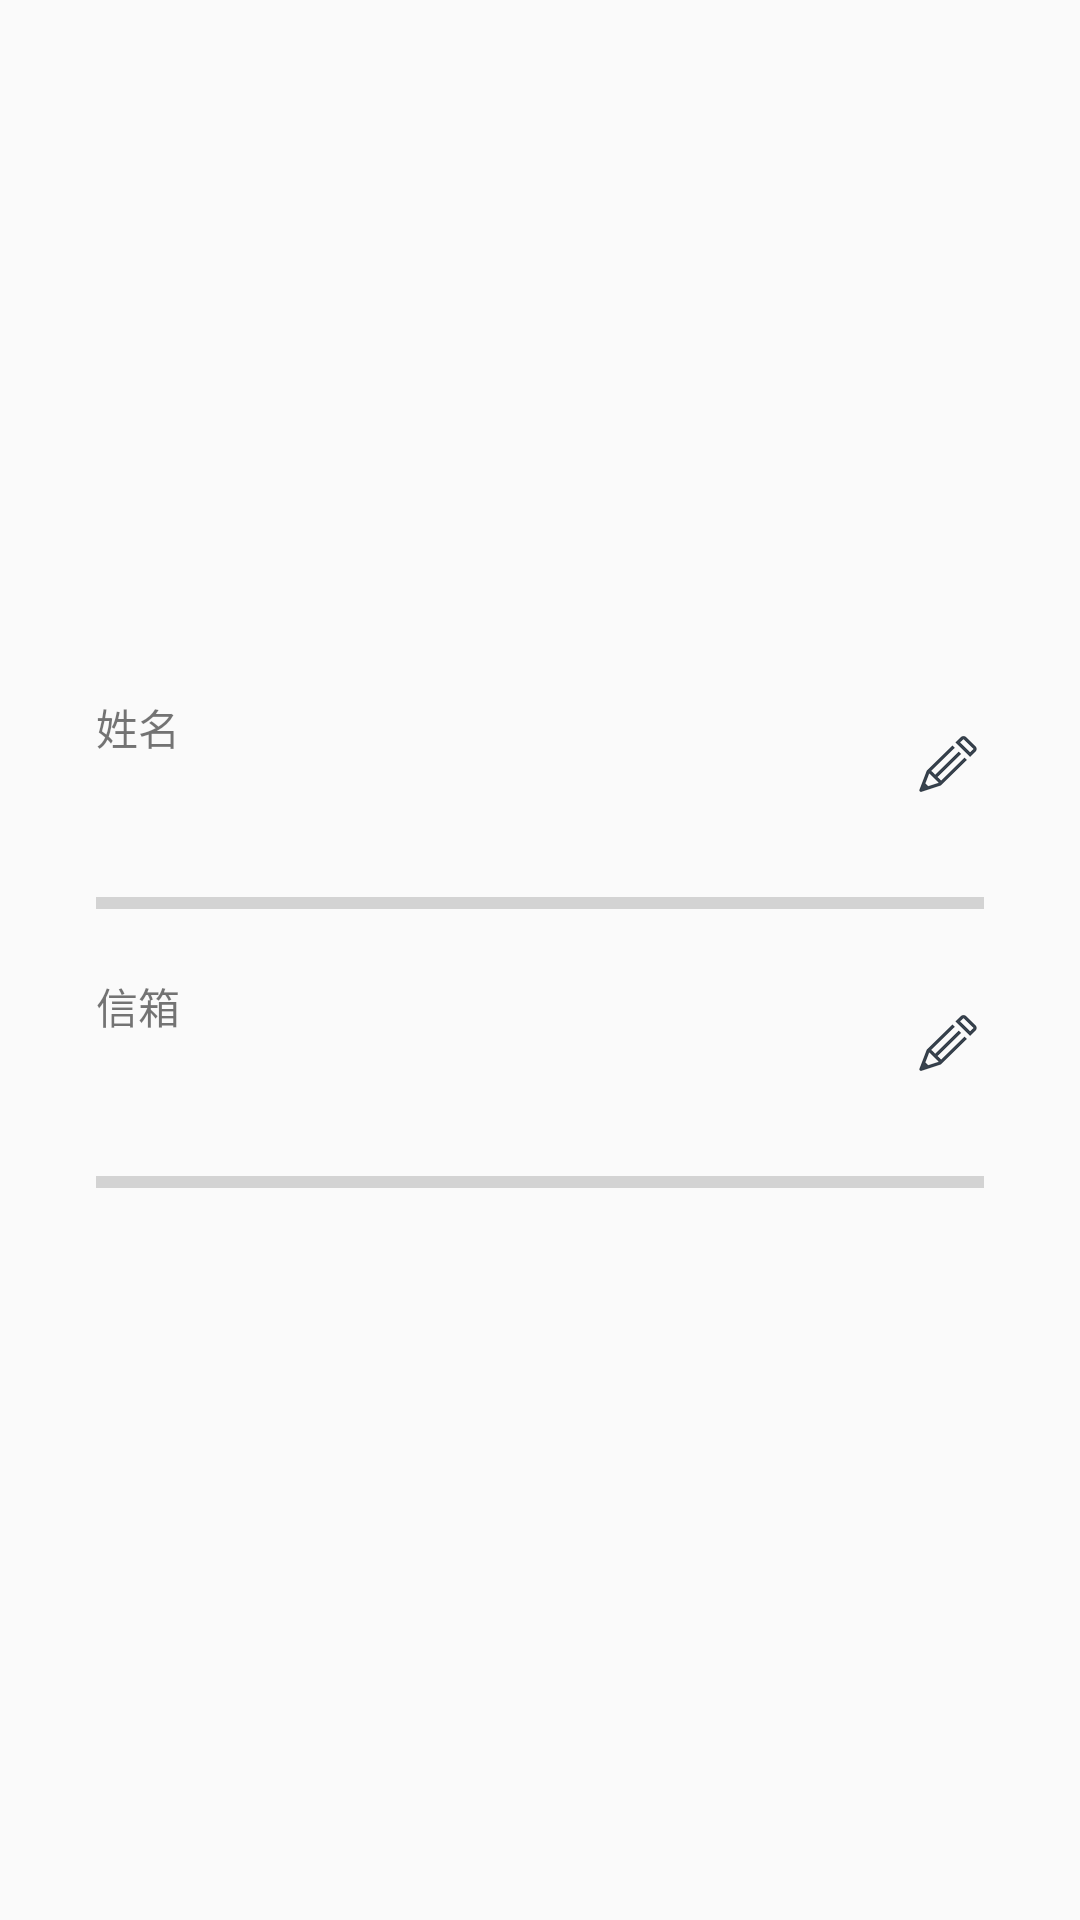

Where icons sit on this 1080*1920 app screen, as (x1, y1, x2, y2):
edit: (919, 736, 977, 792), (919, 1015, 977, 1071)
